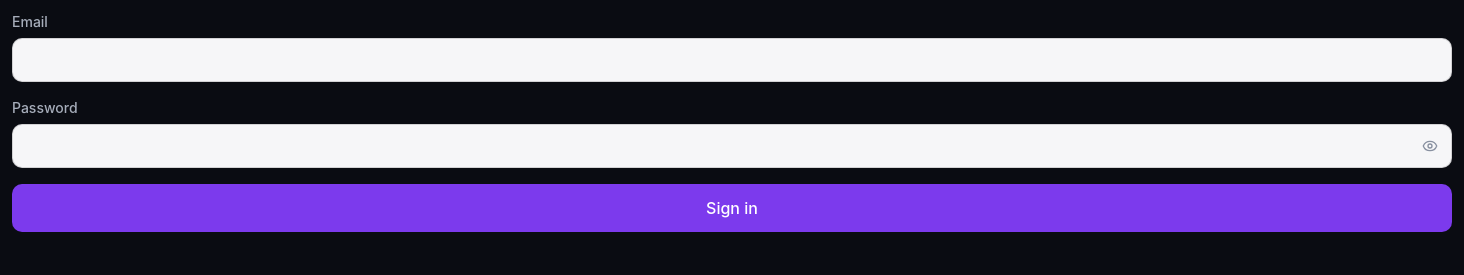
Scenario: SignInForm › shows a validation error when the password is missing
Type "alice@example.com" into the field labelled "Email" at (732, 60), box [12,38,1452,82]
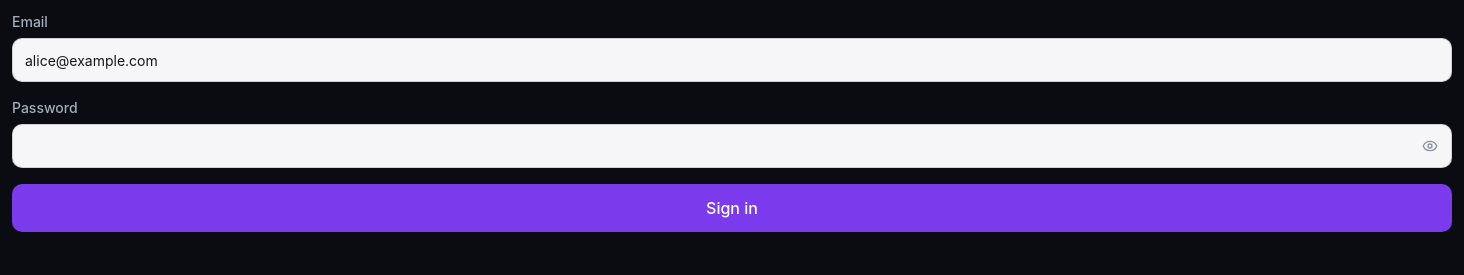
Click the button "Sign in" at (732, 208), box [12,184,1452,232]
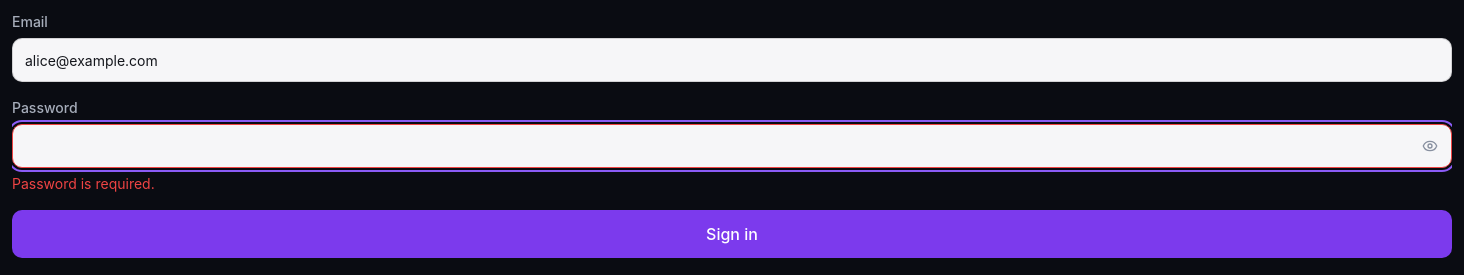
Result: the text "Password is required." is shown at [12,175,155,192]
